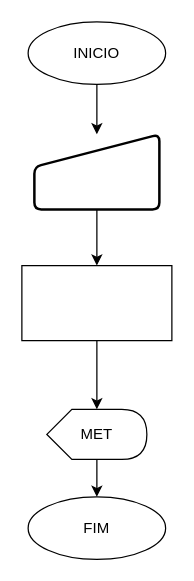
Image size: 194x581. Some labels were removed from this diagram. The shapes that lost their labels are listed below. From the top down, each one's centre as x and y in pixels, then its label:
At pixel 96 171: "PES".
At pixel 96 302: "MET<-PES*0.3048".
